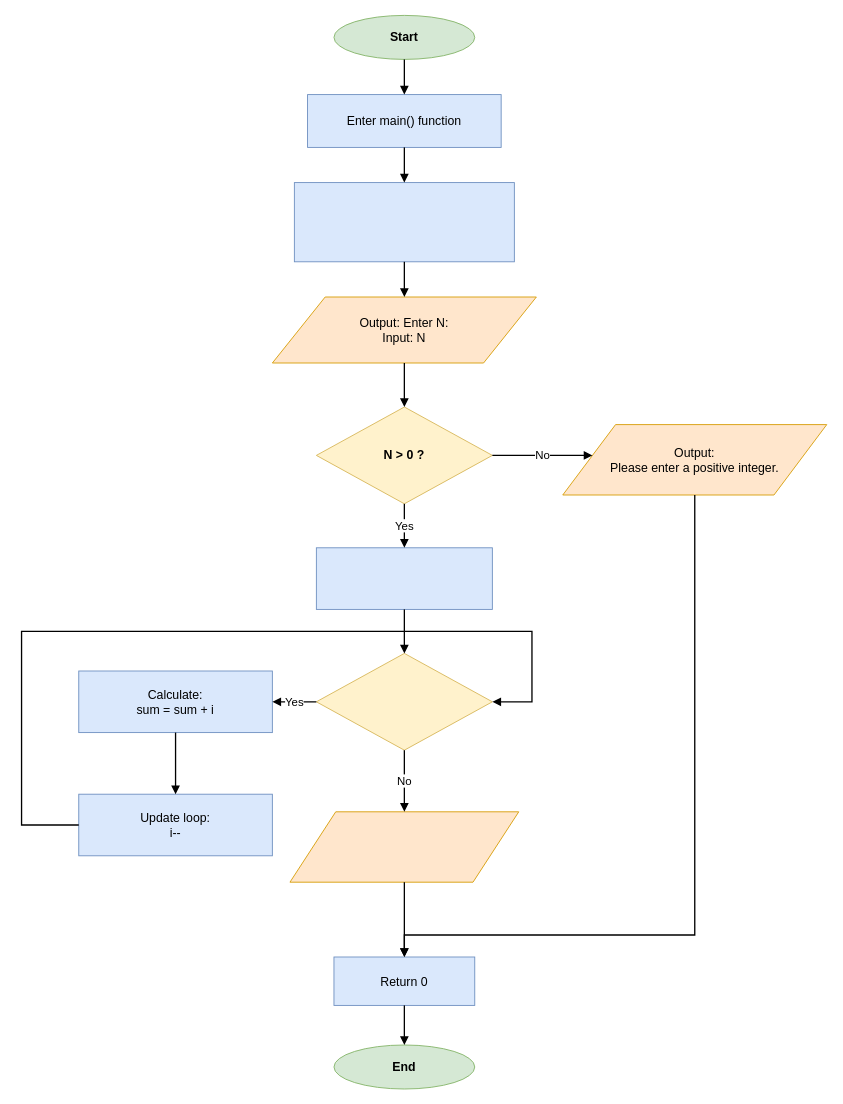
Image size: 843x1104. Some labels were removed from this diagram. The box of each missing label's shape, as (x1, y1, x2, y2) in pixels:
Declare and initialize variables: int N, i sum = 0: (293, 182, 514, 262)
i >= 1 ?: (315, 653, 492, 750)
Initialize loop: i = N: (315, 547, 492, 609)
Output: Sum from 1 to N is: sum: (289, 811, 519, 882)
